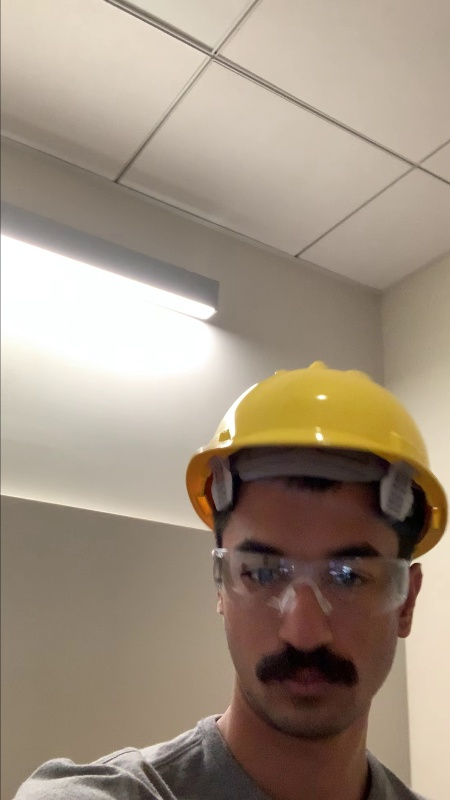glasses: (211, 537, 415, 613)
helmet: (207, 360, 430, 477)
